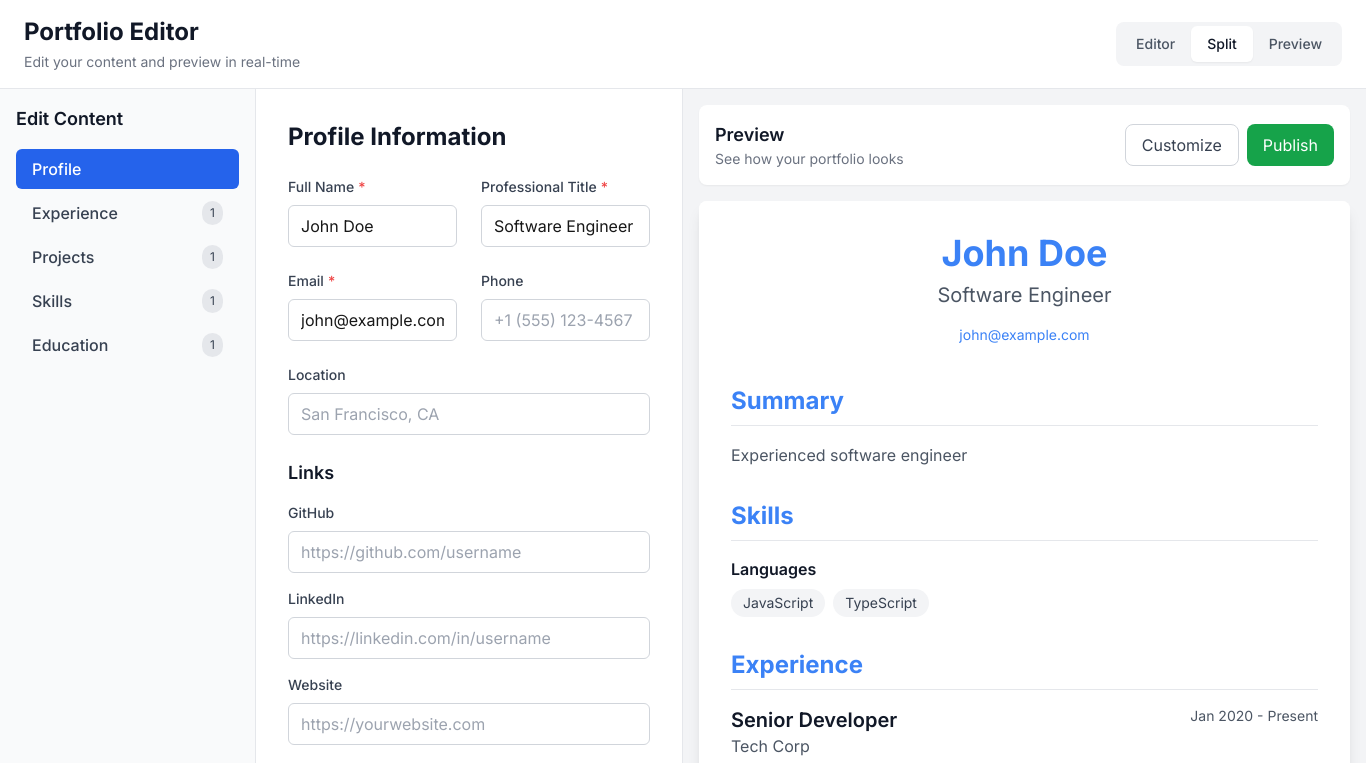
EditorWithPreview › updates preview when editor data changes
Expected: the heading "John Doe" is shown, [942, 231, 1108, 275]
Note: Find and update the name field
In the field showing "John Doe" below "Full Name": (372, 226) [288, 205, 457, 247], type "Jane Smith"
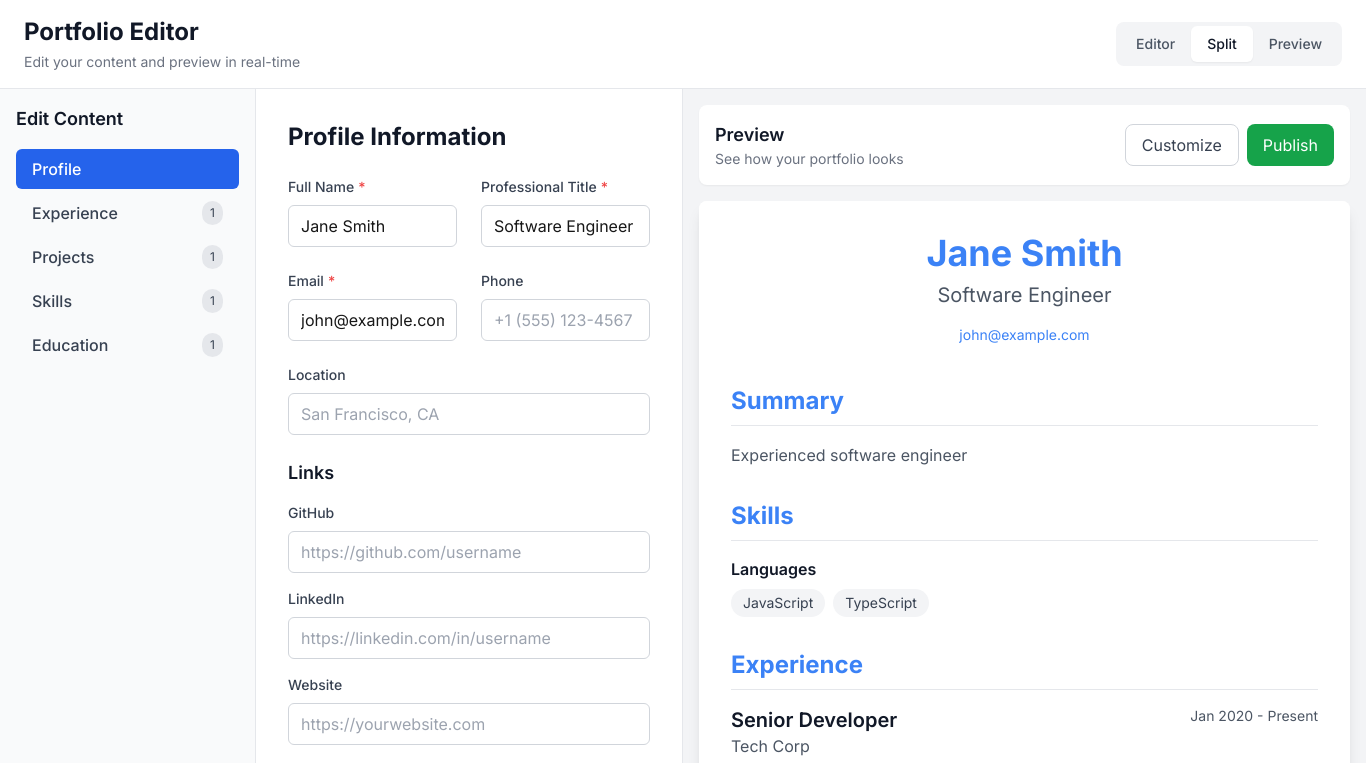
Result: the heading "Jane Smith" is shown at [926, 231, 1123, 275]
